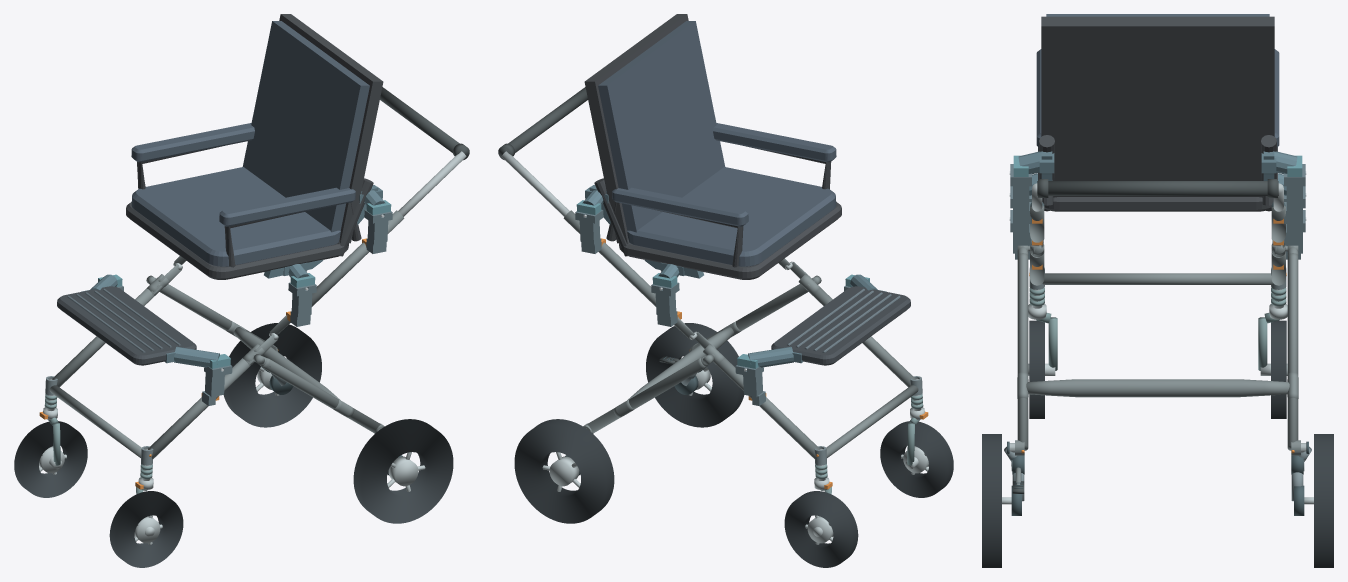
Rendered from S09_w650_state1_wheel_M.glb.
3 renders of one model, left to right at view 1: azimuth 30°, elevation 25°; view 2: azimuth 150°, elevation 25°; view 3: azimuth 270°, elevation 25°, orthographic. The views are drawn at different scales.
Parts seen in each view (by area): view 1: S09_Cabin, RL_tire.008, S09_Cabin_Footrest, RR_tire.008, FL_tire.008, FR_tire.008, V46_rear_leg_-1.009, S09_Cabin_Footrest_LowDocks, main_lower_-1.009, round_handle.008, front_fixed_round_tube.008, main_upper_-1.009 (+9 smaller); view 2: S09_Cabin, RR_tire.008, S09_Cabin_Footrest, RL_tire.008, FR_tire.008, FL_tire.008, V46_rear_leg_1.009, S09_Cabin_Footrest_LowDocks, main_lower_1.009, round_handle.008, front_fixed_round_tube.008, main_upper_1.009 (+9 smaller); view 3: S09_Cabin, V46_rearbar.009, round_handle.008, front_fixed_round_tube.008, RL_tire.008, RR_tire.008, V46_rear_leg_1.009, V46_rear_leg_-1.009, S09_Cabin_HighDocks, FL_tire.008, FR_tire.008, Universal_Cabin_Receiver_H_1 (+7 smaller).
Boxes of the visible parts, <box> form: S09_Cabin: <box>126,14,383,279</box>; RL_tire.008: <box>353,419,453,523</box>; S09_Cabin_Footrest: <box>57,286,196,365</box>; RR_tire.008: <box>223,323,321,427</box>; FL_tire.008: <box>109,491,183,567</box>; FR_tire.008: <box>14,421,87,497</box>; V46_rear_leg_-1.009: <box>261,358,380,433</box>; S09_Cabin_Footrest_LowDocks: <box>81,274,230,371</box>; main_lower_-1.009: <box>148,358,253,459</box>; round_handle.008: <box>380,87,468,158</box>; front_fixed_round_tube.008: <box>49,385,141,457</box>; main_upper_-1.009: <box>311,210,404,306</box>; S09_Cabin: <box>584,14,841,279</box>; RR_tire.008: <box>514,419,614,523</box>; S09_Cabin_Footrest: <box>771,286,910,365</box>; RL_tire.008: <box>646,323,744,427</box>; FR_tire.008: <box>784,491,858,567</box>; FL_tire.008: <box>880,421,953,497</box>; V46_rear_leg_1.009: <box>587,358,706,433</box>; S09_Cabin_Footrest_LowDocks: <box>737,274,886,371</box>; main_lower_1.009: <box>714,358,819,459</box>; round_handle.008: <box>499,87,587,158</box>; front_fixed_round_tube.008: <box>826,385,918,457</box>; main_upper_1.009: <box>563,210,656,306</box>; S09_Cabin: <box>1036,14,1279,211</box>; V46_rearbar.009: <box>1026,379,1289,397</box>; round_handle.008: <box>1037,181,1278,195</box>; front_fixed_round_tube.008: <box>1042,273,1273,284</box>; RL_tire.008: <box>982,434,1001,567</box>; RR_tire.008: <box>1314,434,1333,567</box>; V46_rear_leg_1.009: <box>1287,253,1298,450</box>; V46_rear_leg_-1.009: <box>1017,253,1028,450</box>; S09_Cabin_HighDocks: <box>1009,151,1306,176</box>; FL_tire.008: <box>1029,320,1044,418</box>; FR_tire.008: <box>1271,320,1286,418</box>; Universal_Cabin_Receiver_H_1: <box>1284,164,1305,223</box>.
Size of the model in its own units: 1.16 by 1.33 by 0.7871.
